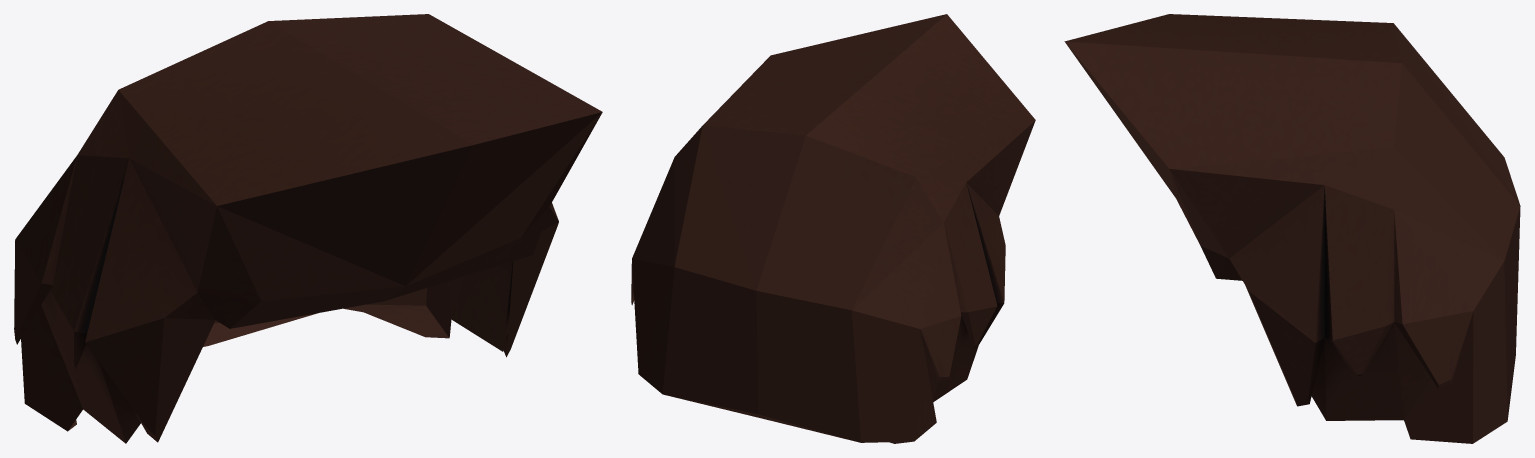
File: ShortChHair.FBX
The picture shows the model from 3 angles, left to right: view 1: azimuth 30°, elevation 25°; view 2: azimuth 150°, elevation 25°; view 3: azimuth 270°, elevation 25°; orthographic projection. The views are drawn at different scales.
Visible parts, largest first — view 1: Short Man Hair; view 2: Short Man Hair; view 3: Short Man Hair.
Part boxes in pixels (<box>): Short Man Hair: <box>14,14,602,443</box>; Short Man Hair: <box>631,14,1035,443</box>; Short Man Hair: <box>1064,14,1520,443</box>.
Bounding box in the file's own units: 274 × 278 × 229.
Materials: 1 (1 with a texture image).
